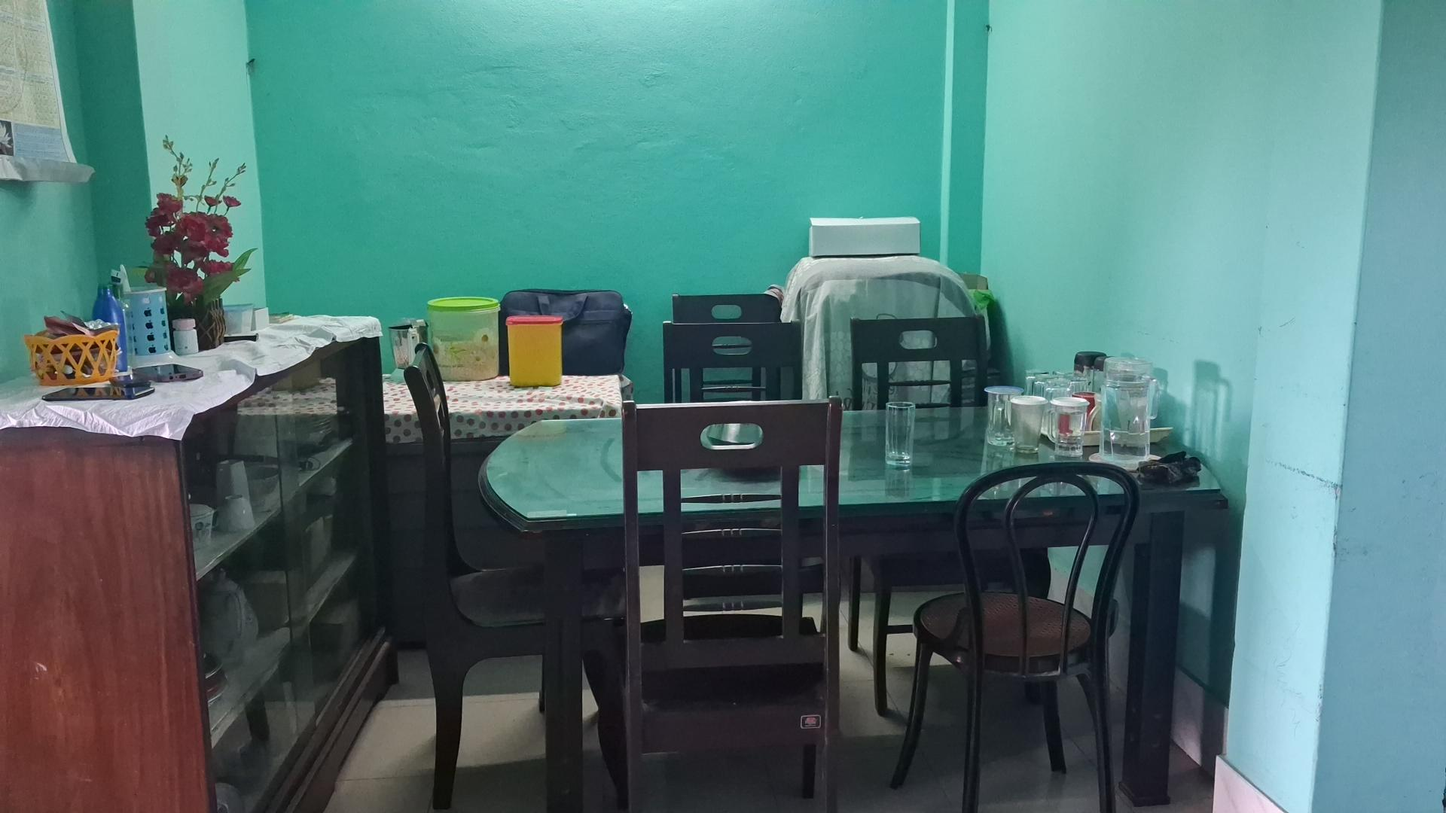Bag: (500, 285, 628, 371)
Basket: (26, 327, 115, 382)
Box: (803, 210, 922, 256)
Chair: (399, 347, 627, 796), (623, 397, 846, 813), (889, 475, 1119, 811)
Glass: (1050, 399, 1086, 459), (983, 389, 1014, 450), (889, 399, 913, 469), (1014, 399, 1040, 453)
Jar: (433, 301, 500, 382), (506, 318, 564, 387)
Jug: (1102, 354, 1158, 461)
Pen Stand: (119, 282, 174, 349)
Phone: (48, 385, 148, 402), (134, 361, 199, 382)
